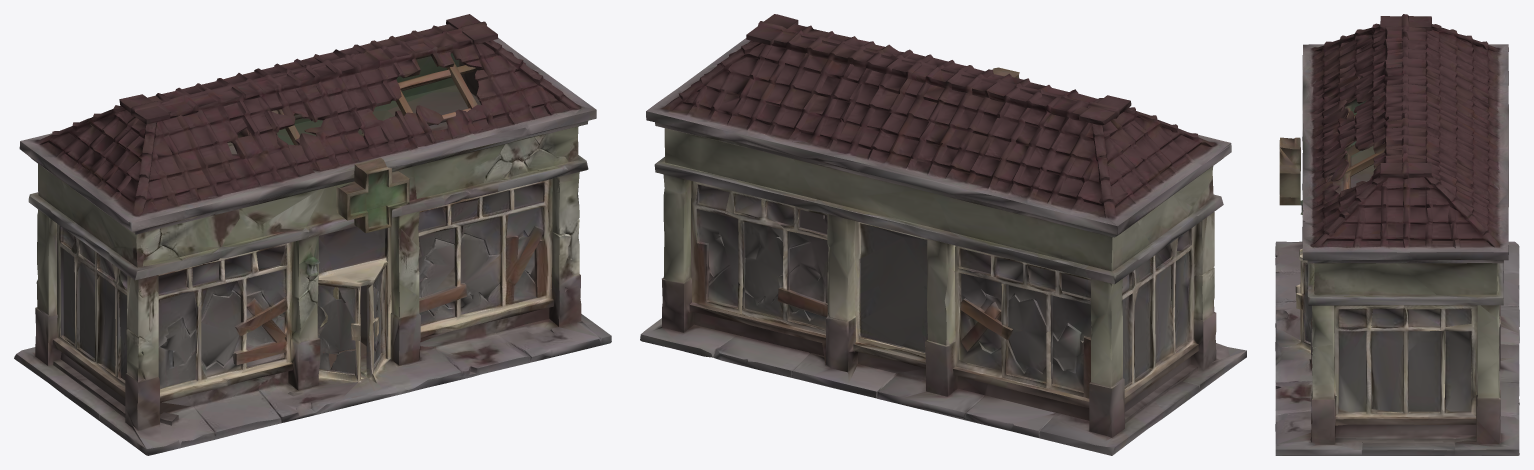
Rendered from shop_pharmacy_bld_idle.glb.
3 renders of one model, left to right at view 1: azimuth 30°, elevation 25°; view 2: azimuth 150°, elevation 25°; view 3: azimuth 270°, elevation 25°, orthographic. The views are drawn at different scales.
Visible parts, largest first — view 1: tripo_node_9a1403da-9aaf-4487-97e8-46cf3c33be23; view 2: tripo_node_9a1403da-9aaf-4487-97e8-46cf3c33be23; view 3: tripo_node_9a1403da-9aaf-4487-97e8-46cf3c33be23.
Boxes of the visible parts, box(x1,y1,x2,y2) form: tripo_node_9a1403da-9aaf-4487-97e8-46cf3c33be23: box(14, 14, 611, 455); tripo_node_9a1403da-9aaf-4487-97e8-46cf3c33be23: box(640, 14, 1246, 455); tripo_node_9a1403da-9aaf-4487-97e8-46cf3c33be23: box(1275, 14, 1519, 455).
Bounding box in the file's own units: 8 × 4.67 × 3.96.
Materials: 1 (1 with a texture image).
